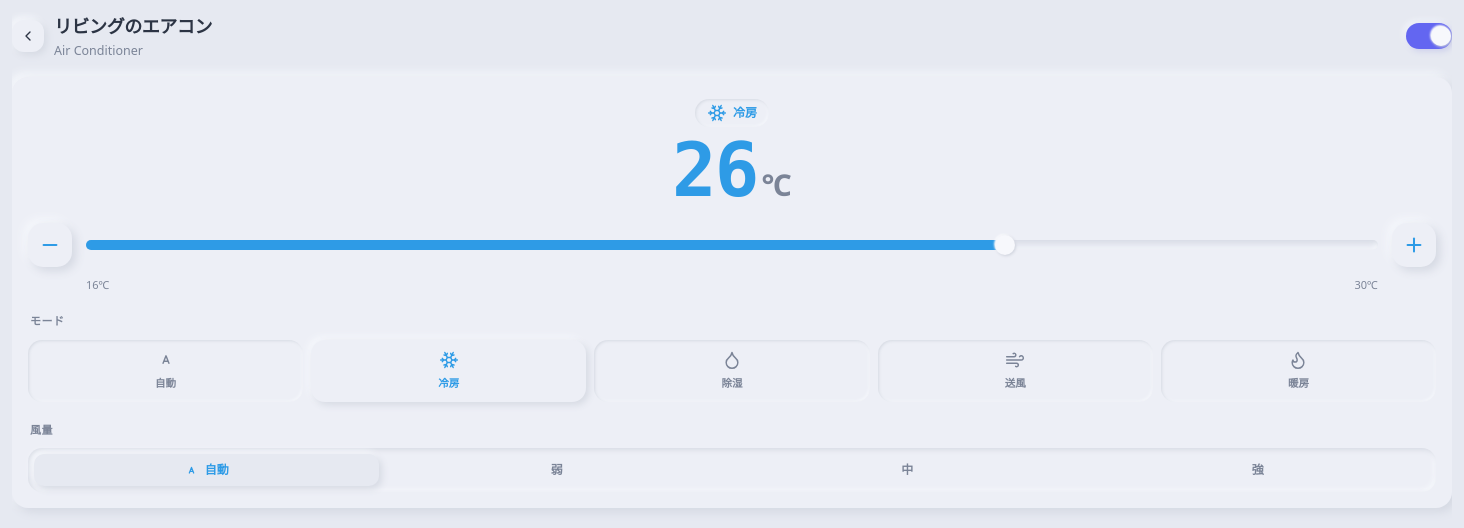
DeviceDetail エアコン › ＋押下で温度が +1 され setAll 送信ペイロードへ反映する（V3）
The width and height of the screenshot is (1464, 528).
Click the button named "温度を上げる". click: (1414, 245)
box: [1392,223,1436,267]
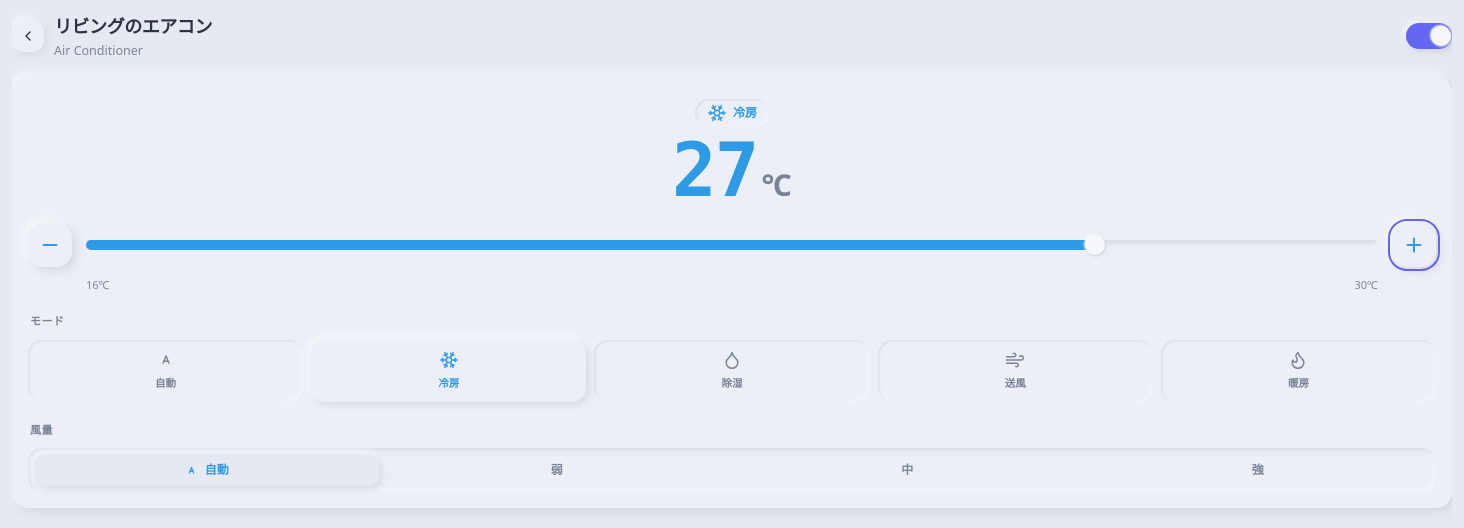
Expected: the text "27" is shown, [672,135,758,206]
